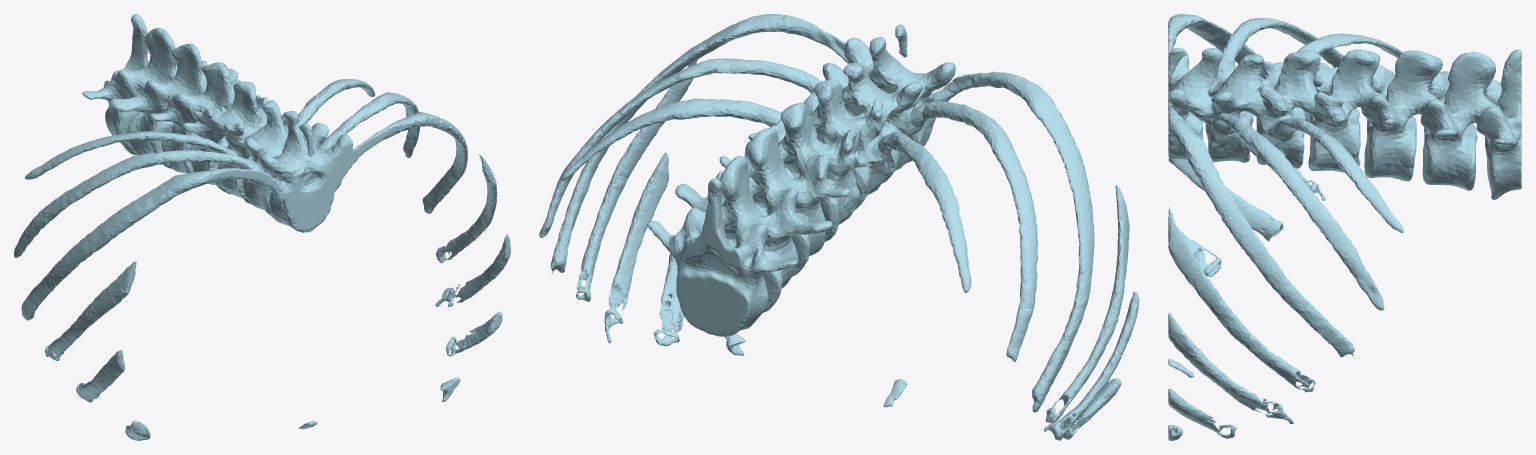
The model's file is bone.obj.
The picture shows the model from 3 angles, left to right: view 1: azimuth 30°, elevation 25°; view 2: azimuth 150°, elevation 25°; view 3: azimuth 270°, elevation 25°; orthographic projection. The views are drawn at different scales.
Parts seen in each view (by area): view 1: grp1; view 2: grp1; view 3: grp1.
Part boxes in pixels (left/top/right/bottom): grp1: left=14, top=14, right=510, bottom=440; grp1: left=539, top=14, right=1139, bottom=440; grp1: left=1168, top=14, right=1521, bottom=440.
Bounding box in the file's own units: 303 × 215 × 211.
